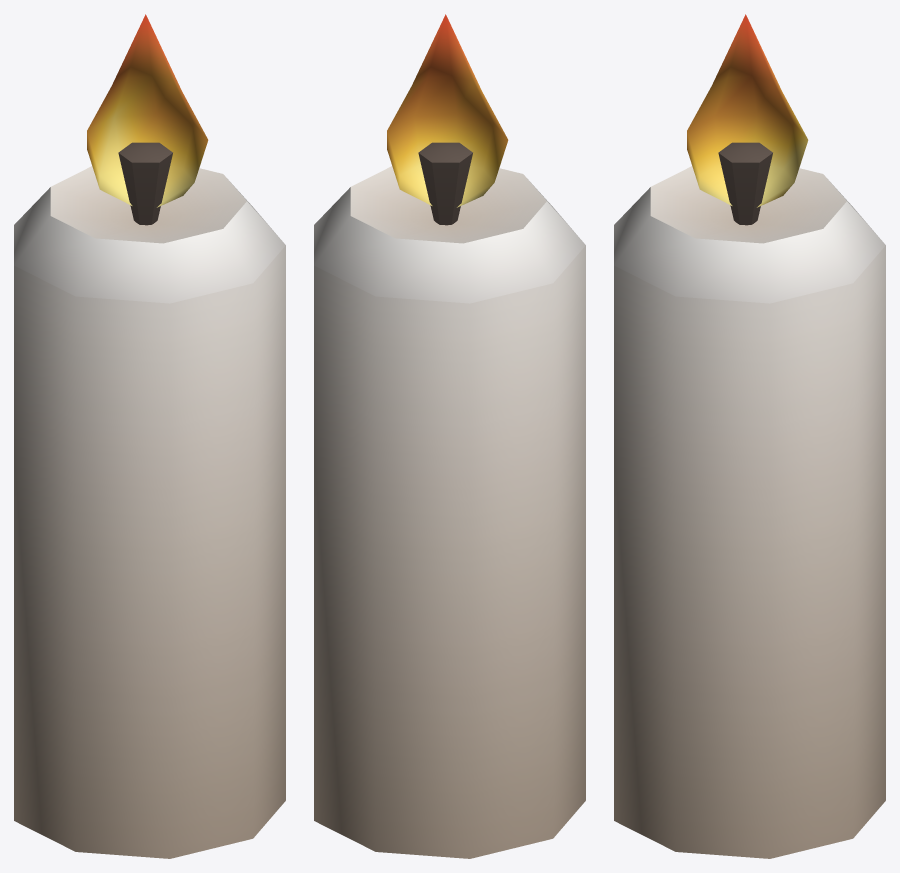
File: candle_lit.glb
3 renders of one model, left to right at view 1: azimuth 30°, elevation 25°; view 2: azimuth 150°, elevation 25°; view 3: azimuth 270°, elevation 25°, orthographic.
Parts seen in each view (by area): view 1: candle_lit; view 2: candle_lit; view 3: candle_lit.
Part boxes in pixels (<box>): candle_lit: <box>14,14,285,858</box>; candle_lit: <box>314,14,585,858</box>; candle_lit: <box>614,14,885,858</box>.
Size of the model in its own units: 0.3344 by 1.05 by 0.3293.
Materials: 1 (1 with a texture image).
